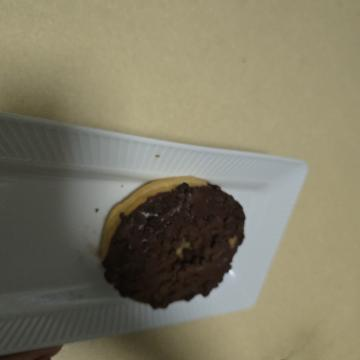doughnut: (168, 106, 318, 270)
